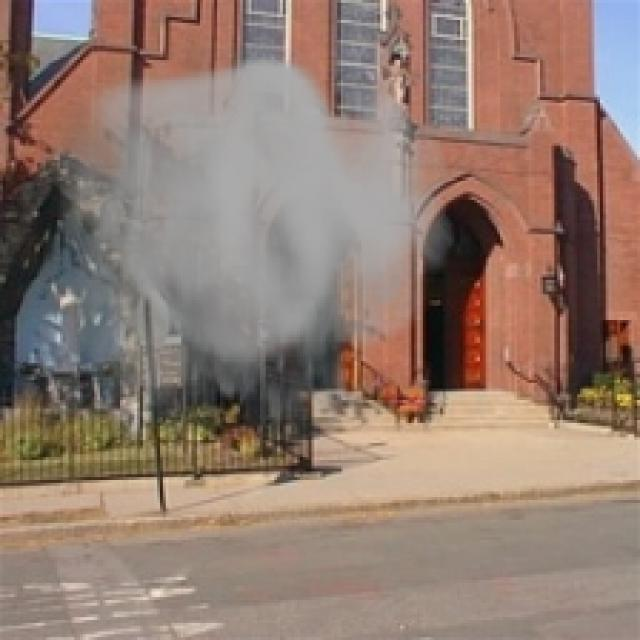smoke: (34, 49, 454, 474)
